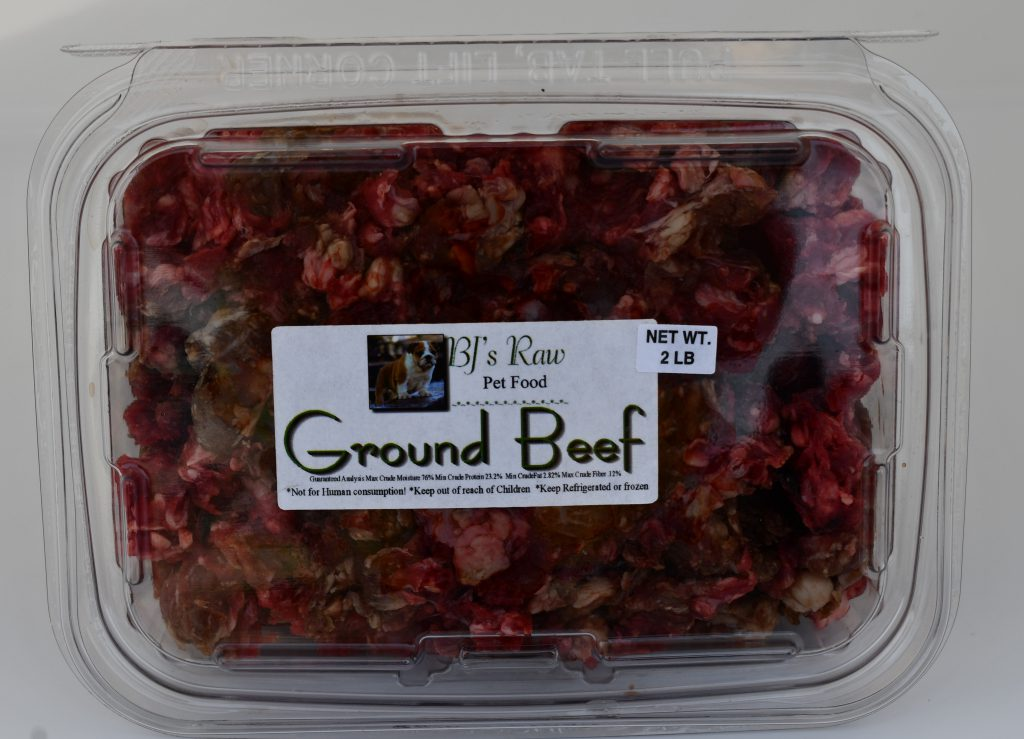ground_beef: (169, 187, 747, 311)
